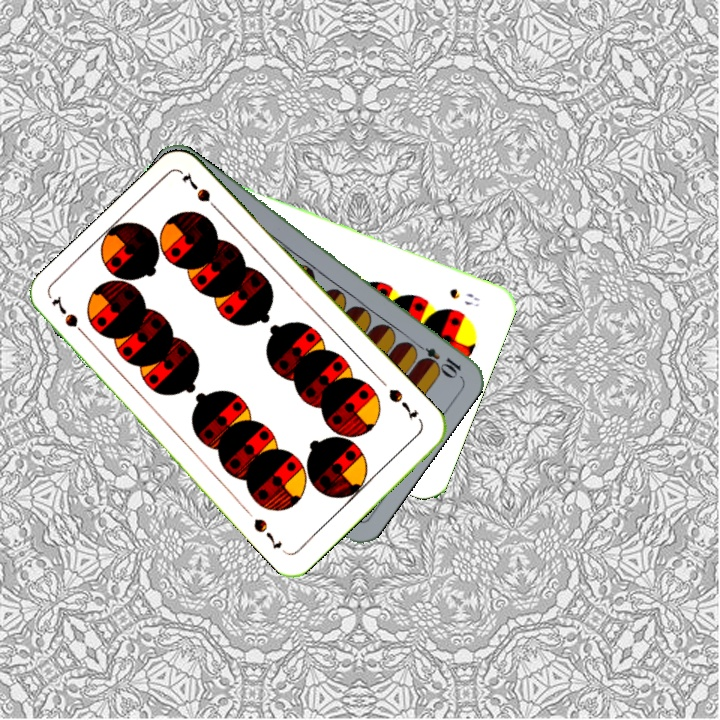E10: (409, 338, 464, 380)
S7: (48, 292, 92, 343), (384, 384, 420, 422)
S8: (445, 284, 483, 310)
